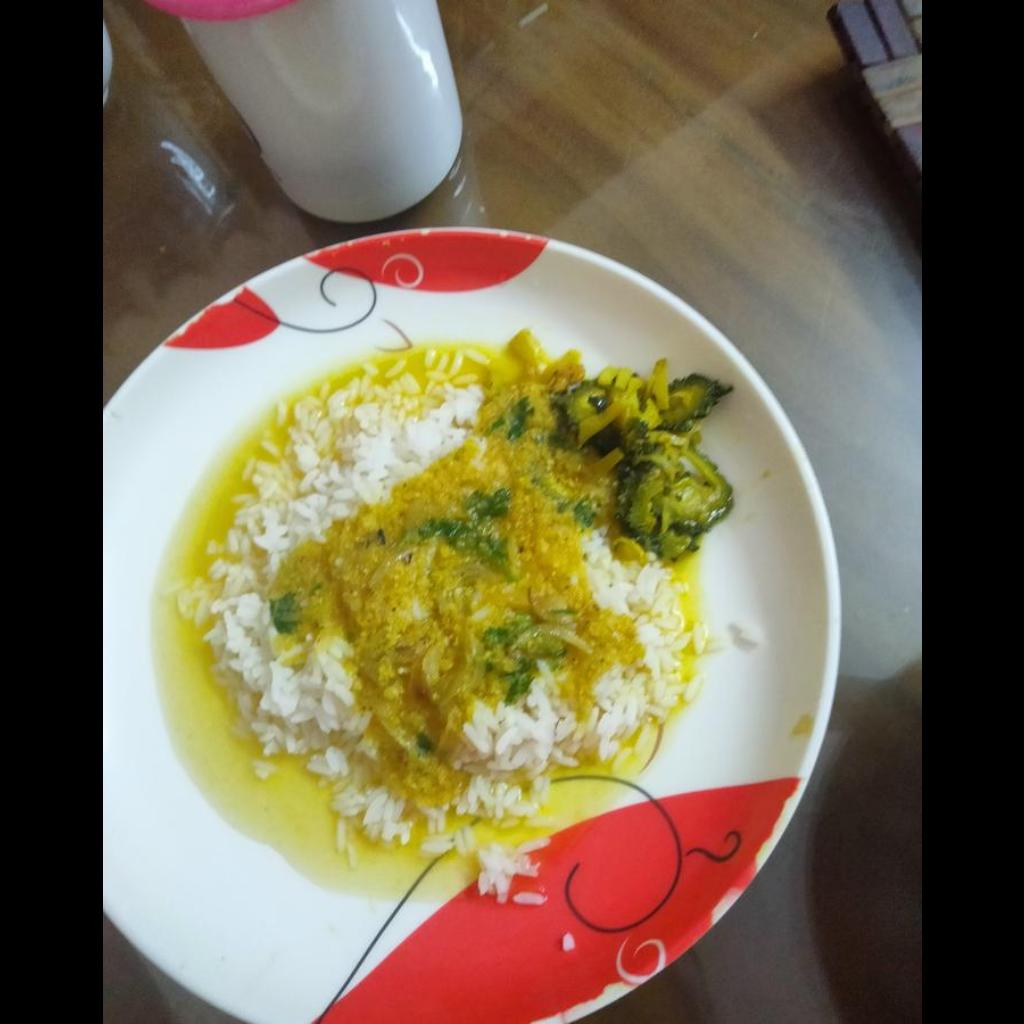daal: (270, 380, 644, 815)
rice: (174, 332, 730, 893)
vaji: (562, 364, 736, 550)
